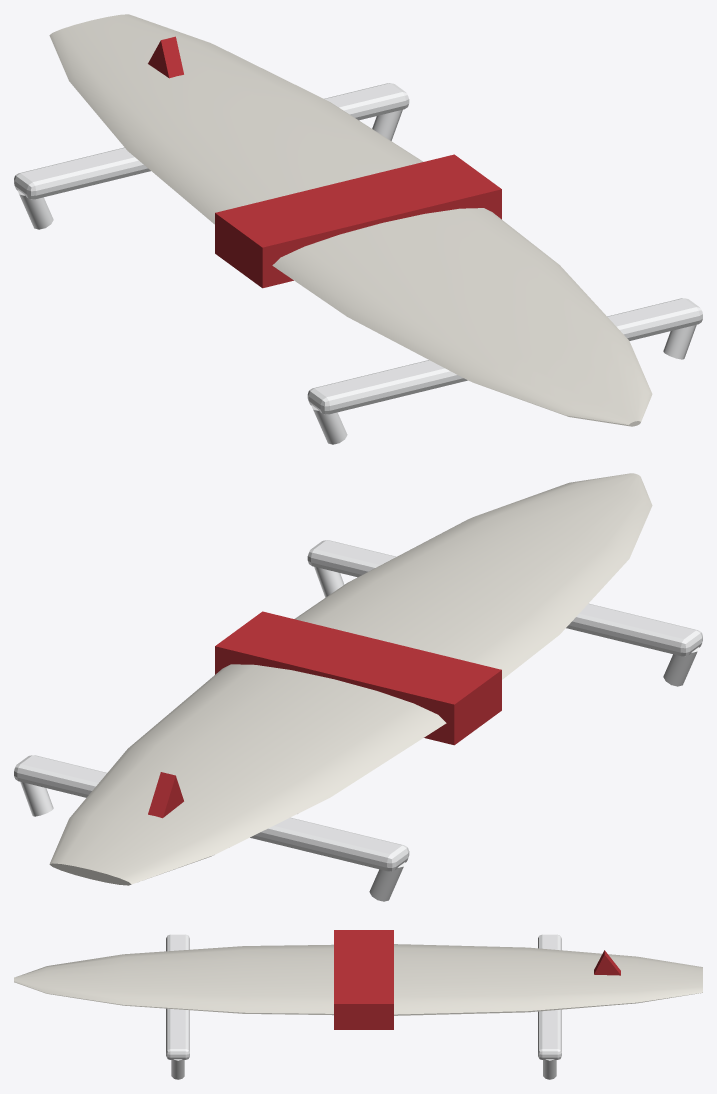
Rendered from top_surfboard.fbx.
The picture shows the model from 3 angles, top to bottom: view 1: azimuth 30°, elevation 25°; view 2: azimuth 150°, elevation 25°; view 3: azimuth 270°, elevation 25°; orthographic projection. The views are drawn at different scales.
Visible parts, largest first — view 1: cream_1, red_1, chrome_1; view 2: cream_1, red_1, chrome_1; view 3: cream_1, red_1, chrome_1.
Part boxes in pixels (<box>): cream_1: <box>49,14,652,426</box>; red_1: <box>148,36,501,288</box>; chrome_1: <box>14,83,702,444</box>; cream_1: <box>49,473,652,885</box>; red_1: <box>148,611,501,818</box>; chrome_1: <box>14,540,702,901</box>; cream_1: <box>14,944,702,1015</box>; red_1: <box>334,930,620,1029</box>; chrome_1: <box>166,934,561,1079</box>.
Size of the model in its own units: 0.0474 by 0.0136 by 0.1163.
